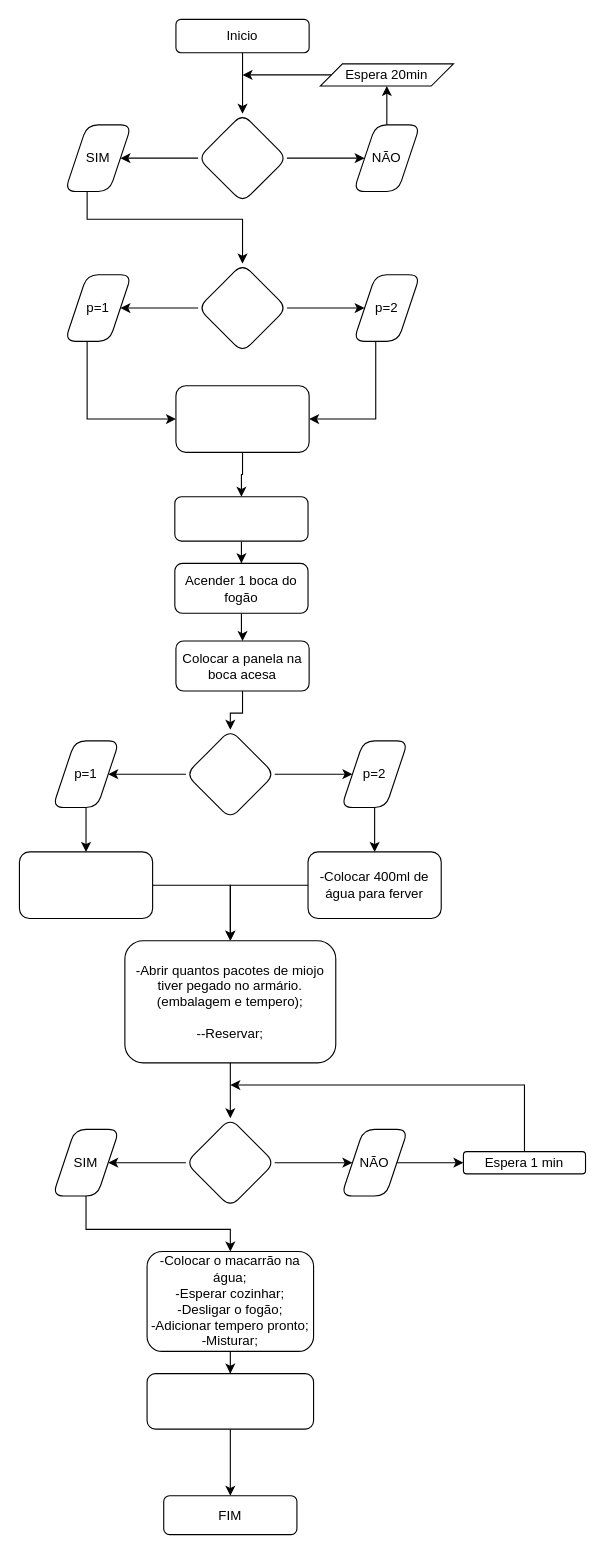
Image size: 605x1554. Some labels were removed from this diagram. The centre of each missing label's shape, as x and y in pixels:
"-Colocar 200ml de água para ferver" goes at (85,885).
"-Servir em (p) pratos(s); -Comer;" goes at (230,1401).
"A água ferveu?" goes at (230,1162).
"p=1 ou 2?" goes at (230,774).
"Pegar (p) miojo(s) no armáro" goes at (242,418).
"Pegar panela apropriada" goes at (241,518).
"Quantas pessoas?" goes at (242,307).
"Tem gente com fome?" goes at (242,158).
